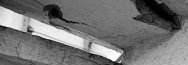Spalling: (131, 1, 183, 32), (41, 3, 88, 26)
